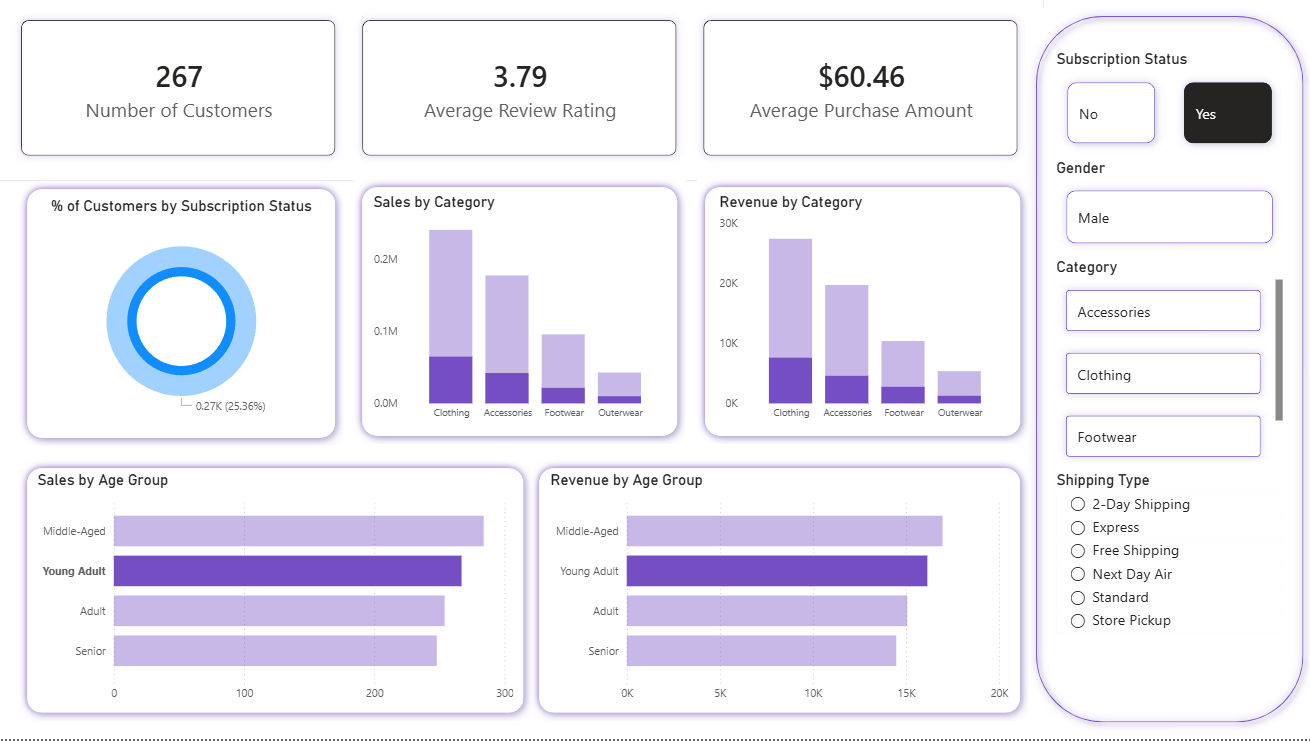

This screenshot's page, from the dashboard's own definition file:
{"tool":"powerbi","page":{"name":"Page 1","canvas":[1466,829],"ordinal":0},"visuals":[{"type":"cardVisual","fields":{"Data":["customer.Number of Customers","customer.Average Review Rating","customer.Average Purchase Amount"]},"box":[0,0,1167.2,207.4],"z":0},{"type":"shape","box":[25.1,207.4,361.3,295.2],"z":1000},{"type":"donutChart","title":"% of Customers by Subscription Status","fields":{"Category":["customer.subscription_status"],"Y":["CountNonNull(customer.customer_id)"]},"box":[41,224.5,330.5,257.6],"z":2000},{"type":"shape","box":[398.9,205.2,369.3,295.2],"z":3000},{"type":"clusteredColumnChart","title":"Sales by Category","fields":{"Y":["Sum(customer.customer_id)"],"Category":["customer.category"]},"box":[416,221.1,335.1,263.3],"z":4000},{"type":"shape","box":[1150.1,14.8,315.7,804.7],"z":5000},{"type":"advancedSlicerVisual","title":"Subscription Status","fields":{"Values":["customer.subscription_status"]},"box":[1176.4,61.3,262.9,121.4],"z":6000},{"type":"advancedSlicerVisual","title":"Gender","fields":{"Values":["customer.gender"]},"box":[1176.4,182.7,262.9,110.3],"z":7000},{"type":"advancedSlicerVisual","title":"Category","fields":{"Values":["customer.category"]},"box":[1176.4,293,262.9,237.3],"z":8000},{"type":"listSlicer","title":"Shipping Type","fields":{"Values":["customer.shipping_type"]},"box":[1176.4,530.3,262.9,244],"z":9000},{"type":"shape","box":[780.8,205.2,369.3,295.2],"z":10000},{"type":"clusteredColumnChart","title":"Revenue by Category","fields":{"Y":["Sum(customer.purchase_amount)"],"Category":["customer.category"]},"box":[801.3,221.1,328.3,263.3],"z":11000},{"type":"shape","box":[596.1,517.5,554,290.7],"z":12000},{"type":"clusteredBarChart","title":"Revenue by Age Group","fields":{"Y":["Sum(customer.purchase_amount)"],"Category":["customer.age_group"]},"box":[613.2,530,519.8,265.6],"z":13000},{"type":"shape","box":[25.1,517.5,571,290.7],"z":14000},{"type":"clusteredBarChart","title":"Sales by Age Group","fields":{"Category":["customer.age_group"],"Y":["CountNonNull(customer.customer_id)"]},"box":[41,530,540.3,265.6],"z":15000}]}

Visuals, with their boxes in screenshot pixels (x1, y1, x2, y2), scaled from the page's 1466x829 canvas onto the 1310x743 screenshot:
cardVisual - customer.Number of Customers x customer.Average Review Rating: left=0, top=0, right=1043, bottom=186
shape: left=22, top=186, right=345, bottom=450
"% of Customers by Subscription Status" donutChart: left=37, top=201, right=332, bottom=432
shape: left=356, top=184, right=686, bottom=448
"Sales by Category" clusteredColumnChart: left=372, top=198, right=671, bottom=434
shape: left=1028, top=13, right=1309, bottom=734
"Subscription Status" advancedSlicerVisual: left=1051, top=55, right=1286, bottom=164
"Gender" advancedSlicerVisual: left=1051, top=164, right=1286, bottom=263
"Category" advancedSlicerVisual: left=1051, top=263, right=1286, bottom=475
"Shipping Type" listSlicer: left=1051, top=475, right=1286, bottom=694
shape: left=698, top=184, right=1028, bottom=448
"Revenue by Category" clusteredColumnChart: left=716, top=198, right=1009, bottom=434
shape: left=533, top=464, right=1028, bottom=724
"Revenue by Age Group" clusteredBarChart: left=548, top=475, right=1012, bottom=713
shape: left=22, top=464, right=533, bottom=724
"Sales by Age Group" clusteredBarChart: left=37, top=475, right=519, bottom=713
